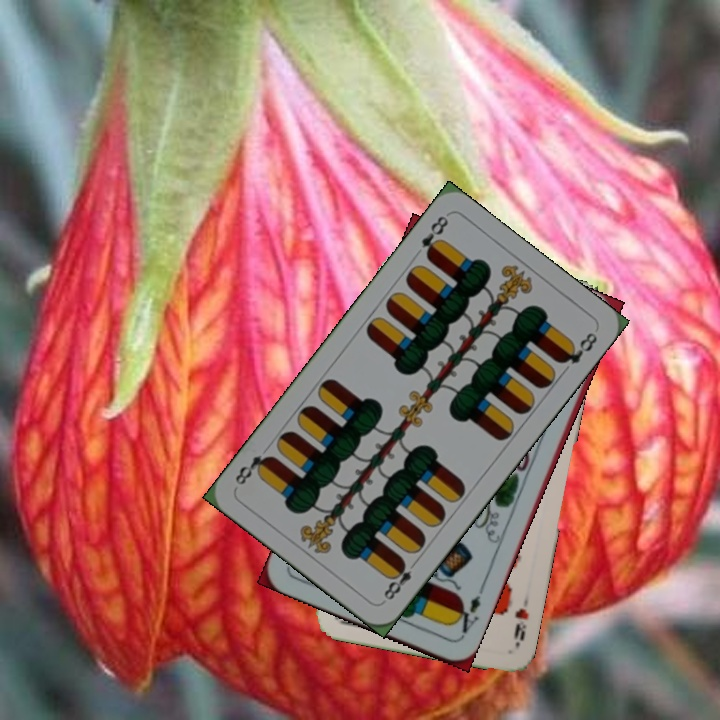E8: (379, 555, 421, 603), (417, 211, 451, 262)
EA: (449, 584, 487, 641)
H9: (509, 590, 532, 649)
